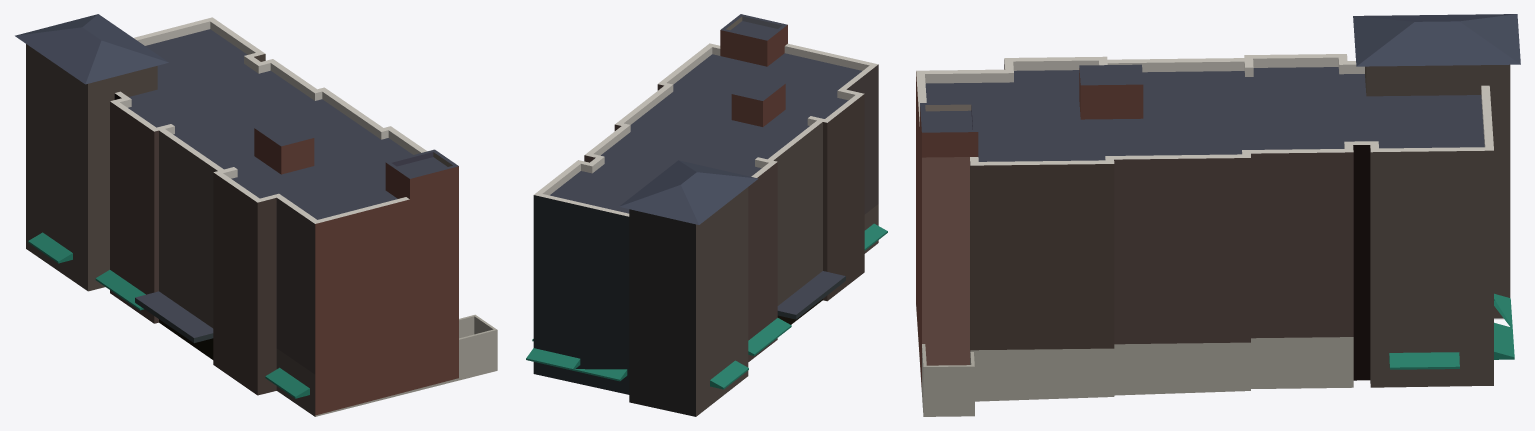
The model's file is courtyard-marriott-chattanooga-tn.glb.
3 views of the same model, side by side, from view 1: azimuth 30°, elevation 25°; view 2: azimuth 150°, elevation 25°; view 3: azimuth 270°, elevation 25° (orthographic). The views are drawn at different scales.
Visible parts, largest first — view 1: LOD0; view 2: LOD0; view 3: LOD0.
Boxes of the visible parts, x1,y1,x2,y2 form: LOD0: (15, 14, 497, 416); LOD0: (526, 14, 887, 416); LOD0: (916, 14, 1520, 416).
Size of what is drawn, in the model's own units: 30.64 by 27.45 by 53.78.
2 materials, 2 textured.
